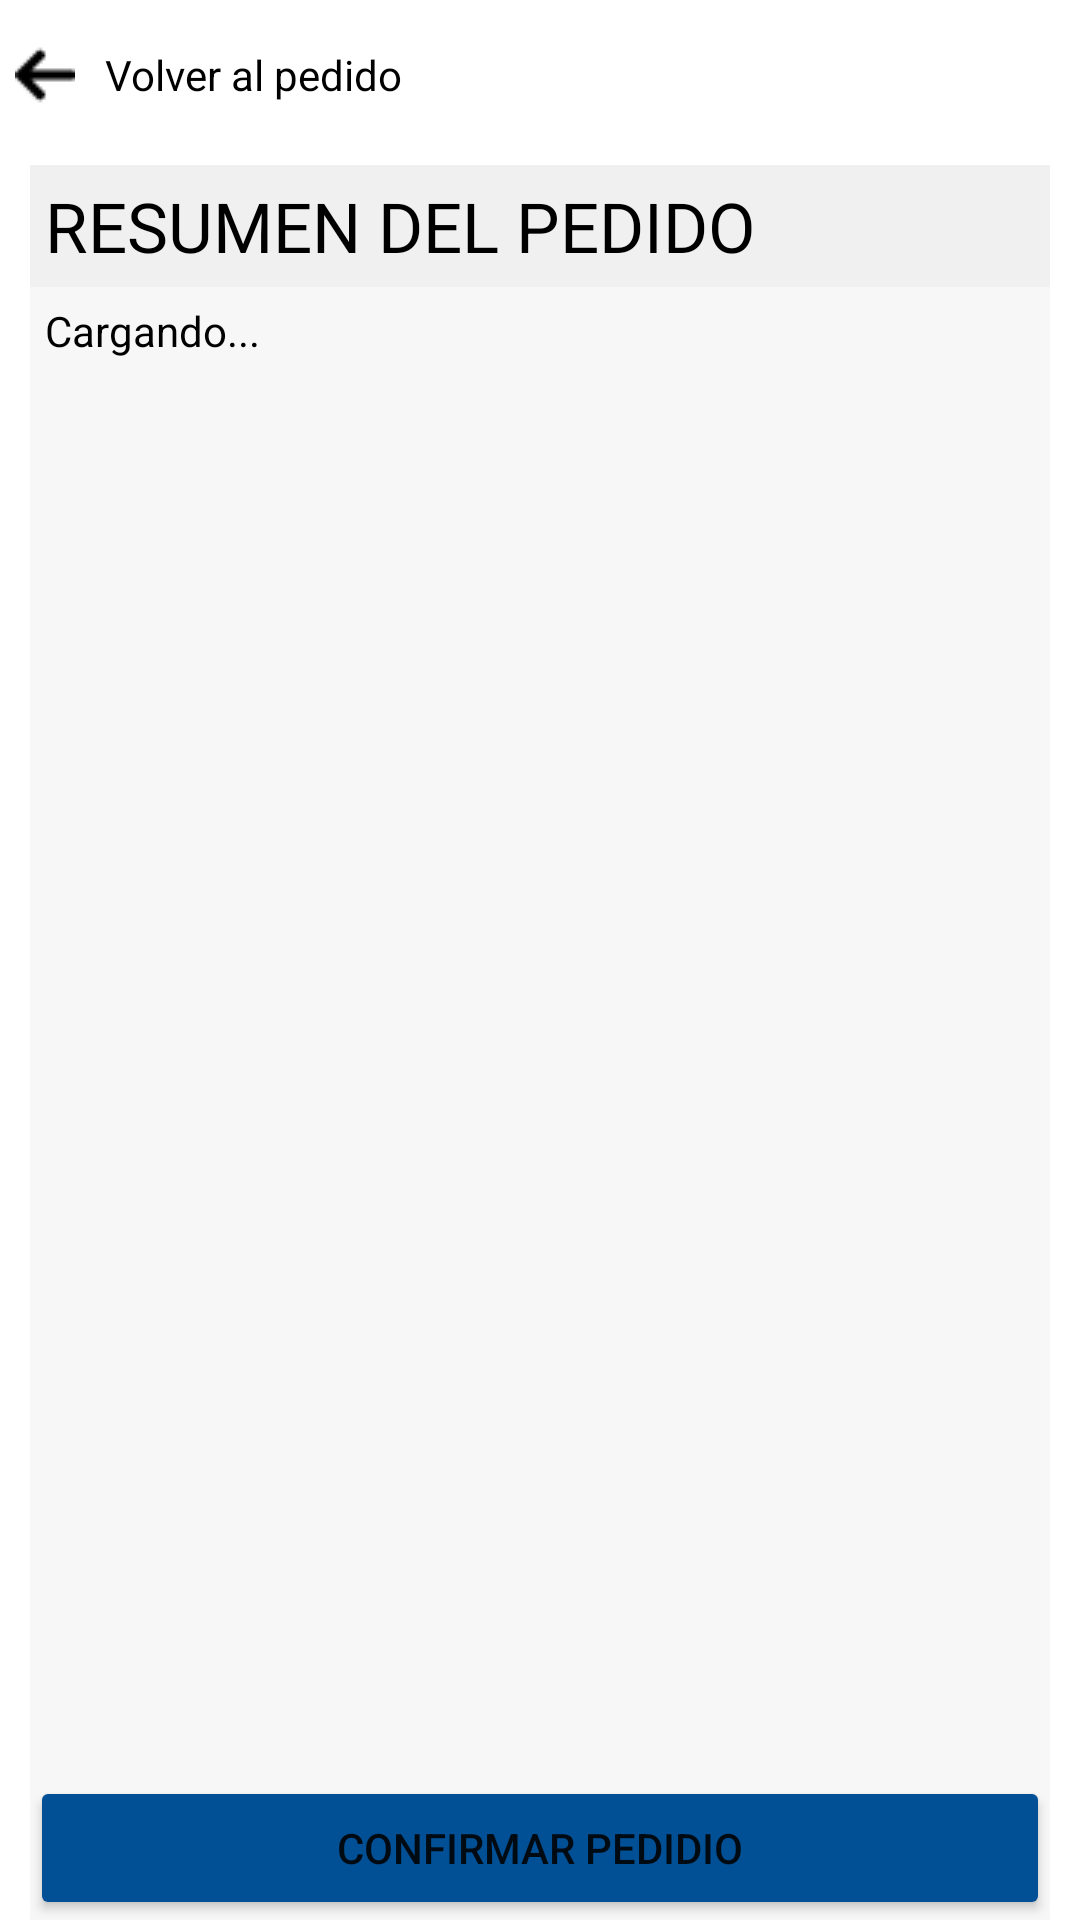

Locate icon controls on the screen. Image size 1080 x 1920, boxes as (x1, y1, x2, y2).
arrow: (15, 48, 75, 102)
